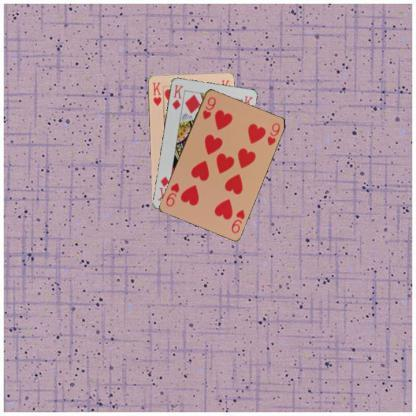9h: (228, 206, 247, 234), (200, 94, 218, 121)
Kd: (169, 82, 184, 110)
Kh: (150, 80, 162, 107)
